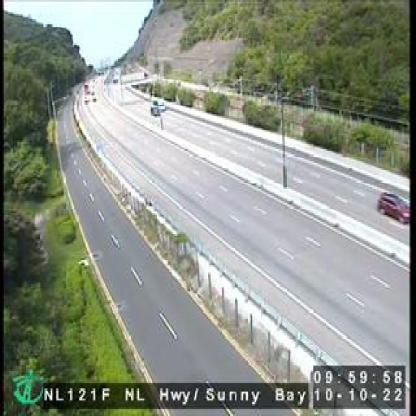Car: (378, 191, 408, 223), (150, 98, 168, 115)
